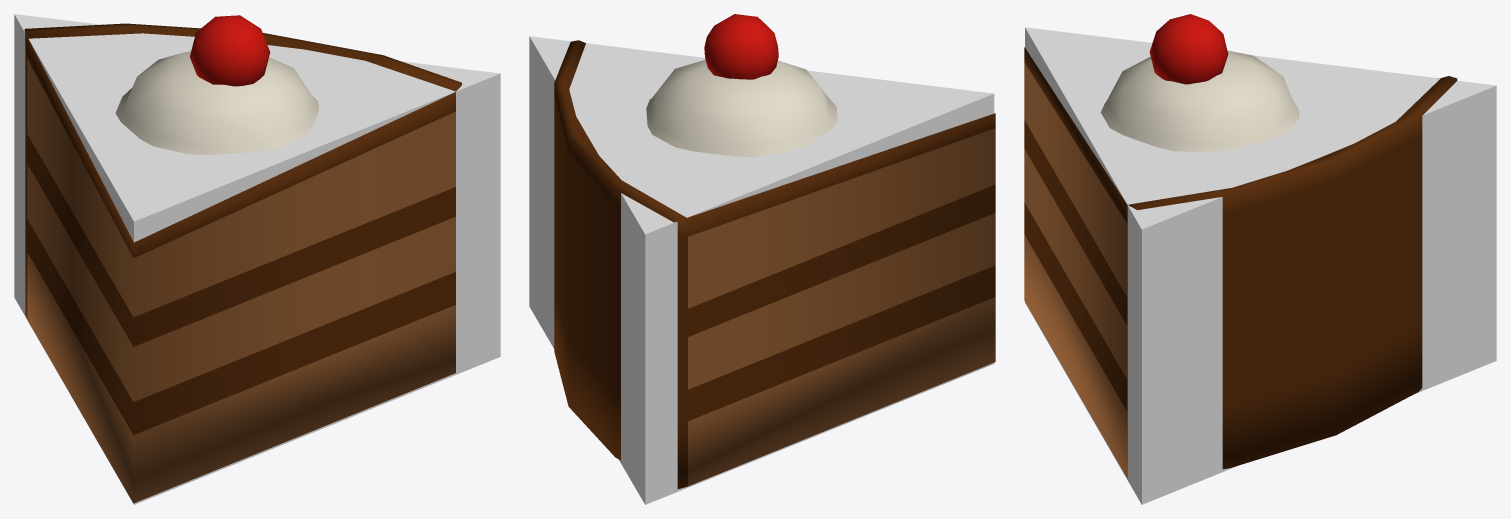
Rendered from cake.fbx.
3 renders of one model, left to right at view 1: azimuth 30°, elevation 25°; view 2: azimuth 150°, elevation 25°; view 3: azimuth 270°, elevation 25°, orthographic. The views are drawn at different scales.
Visible parts, largest first — view 1: Cake, ECX_Cake; view 2: Cake, ECX_Cake; view 3: Cake, ECX_Cake.
Part boxes in pixels (box(x1,y1,x2,y2)): Cake: box(24, 15, 461, 503); ECX_Cake: box(14, 14, 500, 504); Cake: box(554, 14, 995, 488); ECX_Cake: box(529, 36, 994, 504); Cake: box(1024, 14, 1457, 477); ECX_Cake: box(1025, 27, 1496, 504).
Bounding box in the file's own units: 44.66 × 38.04 × 43.96.
